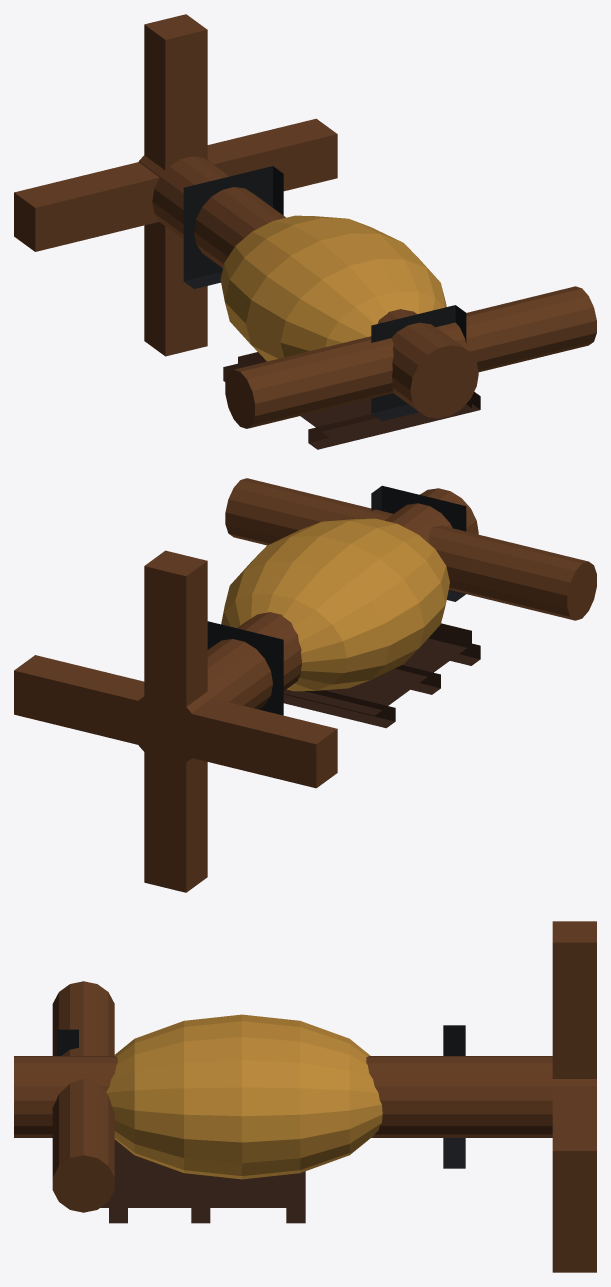
Rendered from SM_AET_TargetDummy_A01.obj.
The picture shows the model from 3 angles, top to bottom: view 1: azimuth 30°, elevation 25°; view 2: azimuth 150°, elevation 25°; view 3: azimuth 270°, elevation 25°; orthographic projection. The views are drawn at different scales.
Parts seen in each view (by area): view 1: Torso_StrawWrap, Crossbar_Main, Base_XFeet_B, Base_XFeet_A, Post_Main, Band_Iron_PostLower, TargetPlate_Front, Band_Iron_PostUpper, Strap_Leather_151; view 2: Torso_StrawWrap, Base_XFeet_A, Base_XFeet_B, Crossbar_Main, Post_Main, TargetPlate_Front, Band_Iron_PostLower, Band_Iron_PostUpper, Strap_Leather_95, Strap_Leather_151, Strap_Leather_125; view 3: Torso_StrawWrap, Post_Main, Crossbar_Main, Base_XFeet_B, TargetPlate_Front, Base_XFeet_A, Band_Iron_PostLower, Band_Iron_PostUpper, Strap_Leather_95.
Boxes of the visible parts, x1=… form: Torso_StrawWrap: x1=220, y1=215, x2=446, y2=361; Crossbar_Main: x1=225, y1=286, x2=596, y2=428; Base_XFeet_B: x1=144, y1=14, x2=207, y2=356; Base_XFeet_A: x1=14, y1=118, x2=337, y2=251; Post_Main: x1=138, y1=155, x2=478, y2=418; Band_Iron_PostLower: x1=183, y1=166, x2=283, y2=288; TargetPlate_Front: x1=238, y1=352, x2=471, y2=441; Band_Iron_PostUpper: x1=371, y1=305, x2=466, y2=421; Strap_Leather_151: x1=308, y1=392, x2=480, y2=449; Torso_StrawWrap: x1=221, y1=518, x2=449, y2=691; Base_XFeet_A: x1=14, y1=655, x2=337, y2=788; Base_XFeet_B: x1=144, y1=550, x2=207, y2=892; Crossbar_Main: x1=225, y1=478, x2=596, y2=620; Post_Main: x1=131, y1=488, x2=478, y2=765; TargetPlate_Front: x1=283, y1=623, x2=471, y2=715; Band_Iron_PostLower: x1=207, y1=621, x2=283, y2=715; Band_Iron_PostUpper: x1=371, y1=485, x2=466, y2=601; Strap_Leather_95: x1=283, y1=690, x2=395, y2=728; Strap_Leather_151: x1=428, y1=634, x2=480, y2=665; Strap_Leather_125: x1=395, y1=665, x2=440, y2=694; Torso_StrawWrap: x1=106, y1=1014, x2=382, y2=1179; Post_Main: x1=14, y1=1056, x2=596, y2=1137; Crossbar_Main: x1=52, y1=981, x2=114, y2=1212; Base_XFeet_B: x1=552, y1=921, x2=596, y2=1272; TargetPlate_Front: x1=100, y1=1139, x2=302, y2=1207; Base_XFeet_A: x1=552, y1=1087, x2=596, y2=1196; Band_Iron_PostLower: x1=443, y1=1025, x2=465, y2=1168; Band_Iron_PostUpper: x1=56, y1=1029, x2=78, y2=1055; Strap_Leather_95: x1=286, y1=1171, x2=305, y2=1223.
Size of what is drawn, in the model's own units: 130 by 115 by 184.
